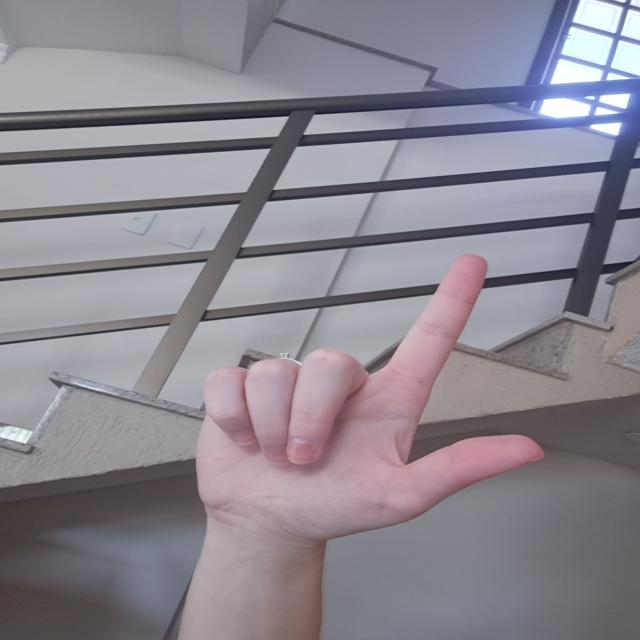L: (186, 245, 560, 543)
